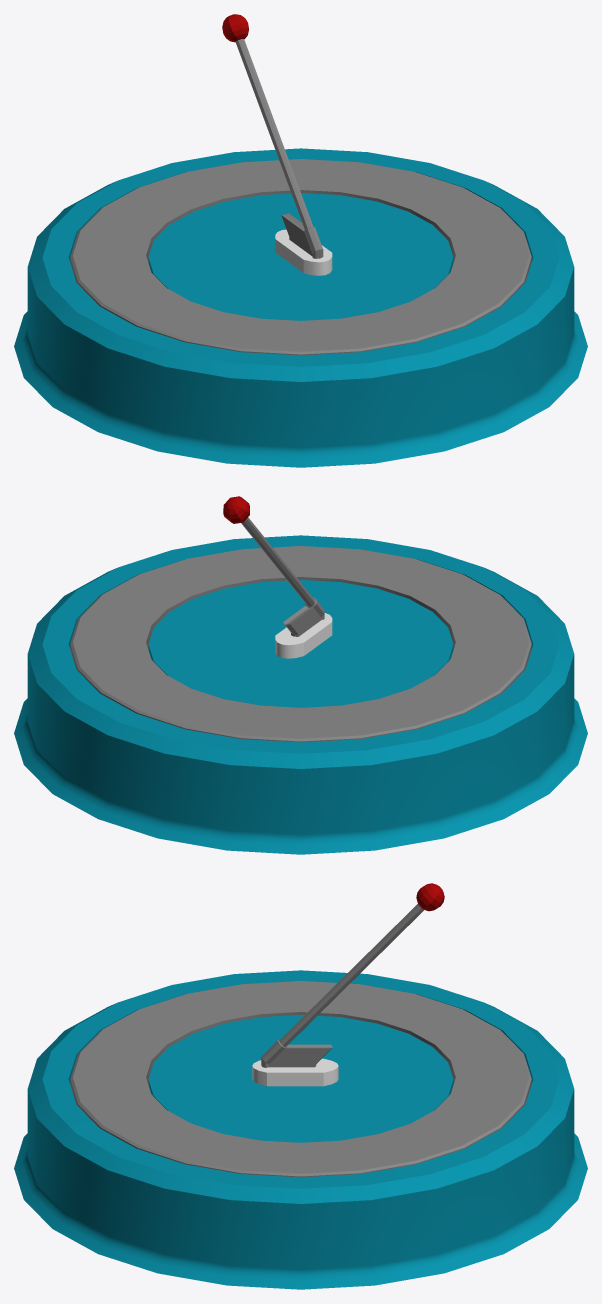
File: Roomba01.fbx
3 views of the same model, one above another, from view 1: azimuth 30°, elevation 25°; view 2: azimuth 150°, elevation 25°; view 3: azimuth 270°, elevation 25° (orthographic).
Visible parts, largest first — view 1: polySurface7, polySurface13, polySurface12, polySurface10, polySurface8, polySurface11, polySurface9; view 2: polySurface7, polySurface13, polySurface12, polySurface8, polySurface10, polySurface11, polySurface9; view 3: polySurface7, polySurface13, polySurface12, polySurface10, polySurface8, polySurface11, polySurface9.
Boxes of the visible parts, x1=… form: polySurface7: x1=14, y1=148, x2=587, y2=467; polySurface13: x1=70, y1=159, x2=531, y2=355; polySurface12: x1=148, y1=193, x2=453, y2=320; polySurface10: x1=235, y1=39, x2=313, y2=229; polySurface8: x1=275, y1=229, x2=332, y2=275; polySurface11: x1=281, y1=213, x2=323, y2=258; polySurface9: x1=222, y1=14, x2=248, y2=42; polySurface7: x1=14, y1=535, x2=587, y2=854; polySurface13: x1=70, y1=546, x2=531, y2=742; polySurface12: x1=148, y1=580, x2=453, y2=707; polySurface8: x1=275, y1=613, x2=332, y2=658; polySurface10: x1=241, y1=517, x2=315, y2=606; polySurface11: x1=283, y1=597, x2=324, y2=636; polySurface9: x1=223, y1=496, x2=249, y2=523; polySurface7: x1=14, y1=970, x2=587, y2=1289; polySurface13: x1=70, y1=981, x2=531, y2=1177; polySurface12: x1=148, y1=1015, x2=453, y2=1142; polySurface10: x1=279, y1=904, x2=423, y2=1046; polySurface8: x1=252, y1=1058, x2=338, y2=1086; polySurface11: x1=261, y1=1039, x2=332, y2=1067; polySurface9: x1=416, y1=883, x2=444, y2=911.
Bounding box in the file's own units: 12.82 × 7.06 × 12.82.
